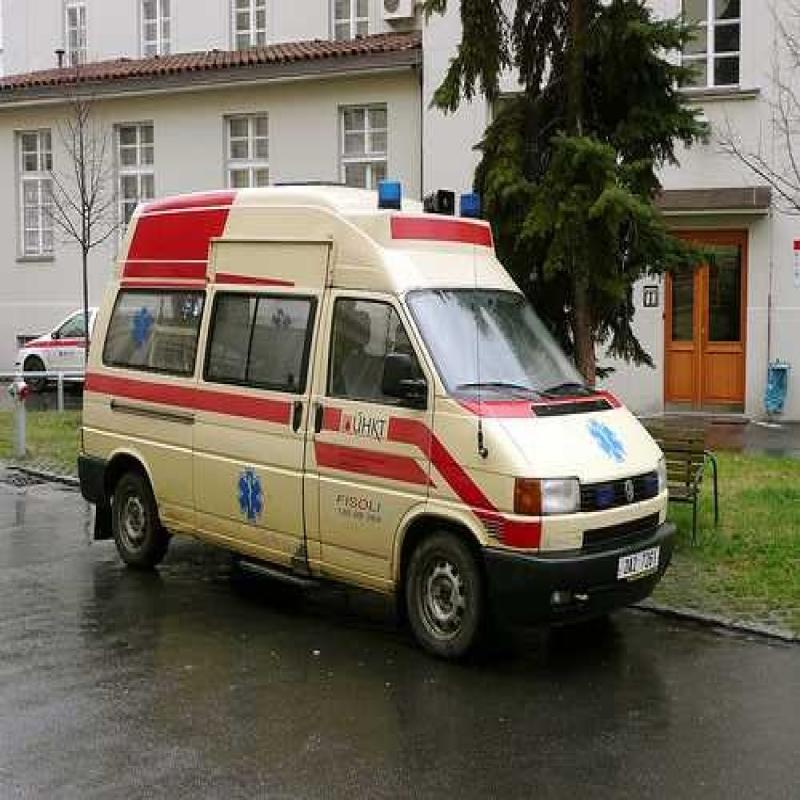AmbulanceSiren: (368, 155, 406, 242), (461, 164, 492, 244)
